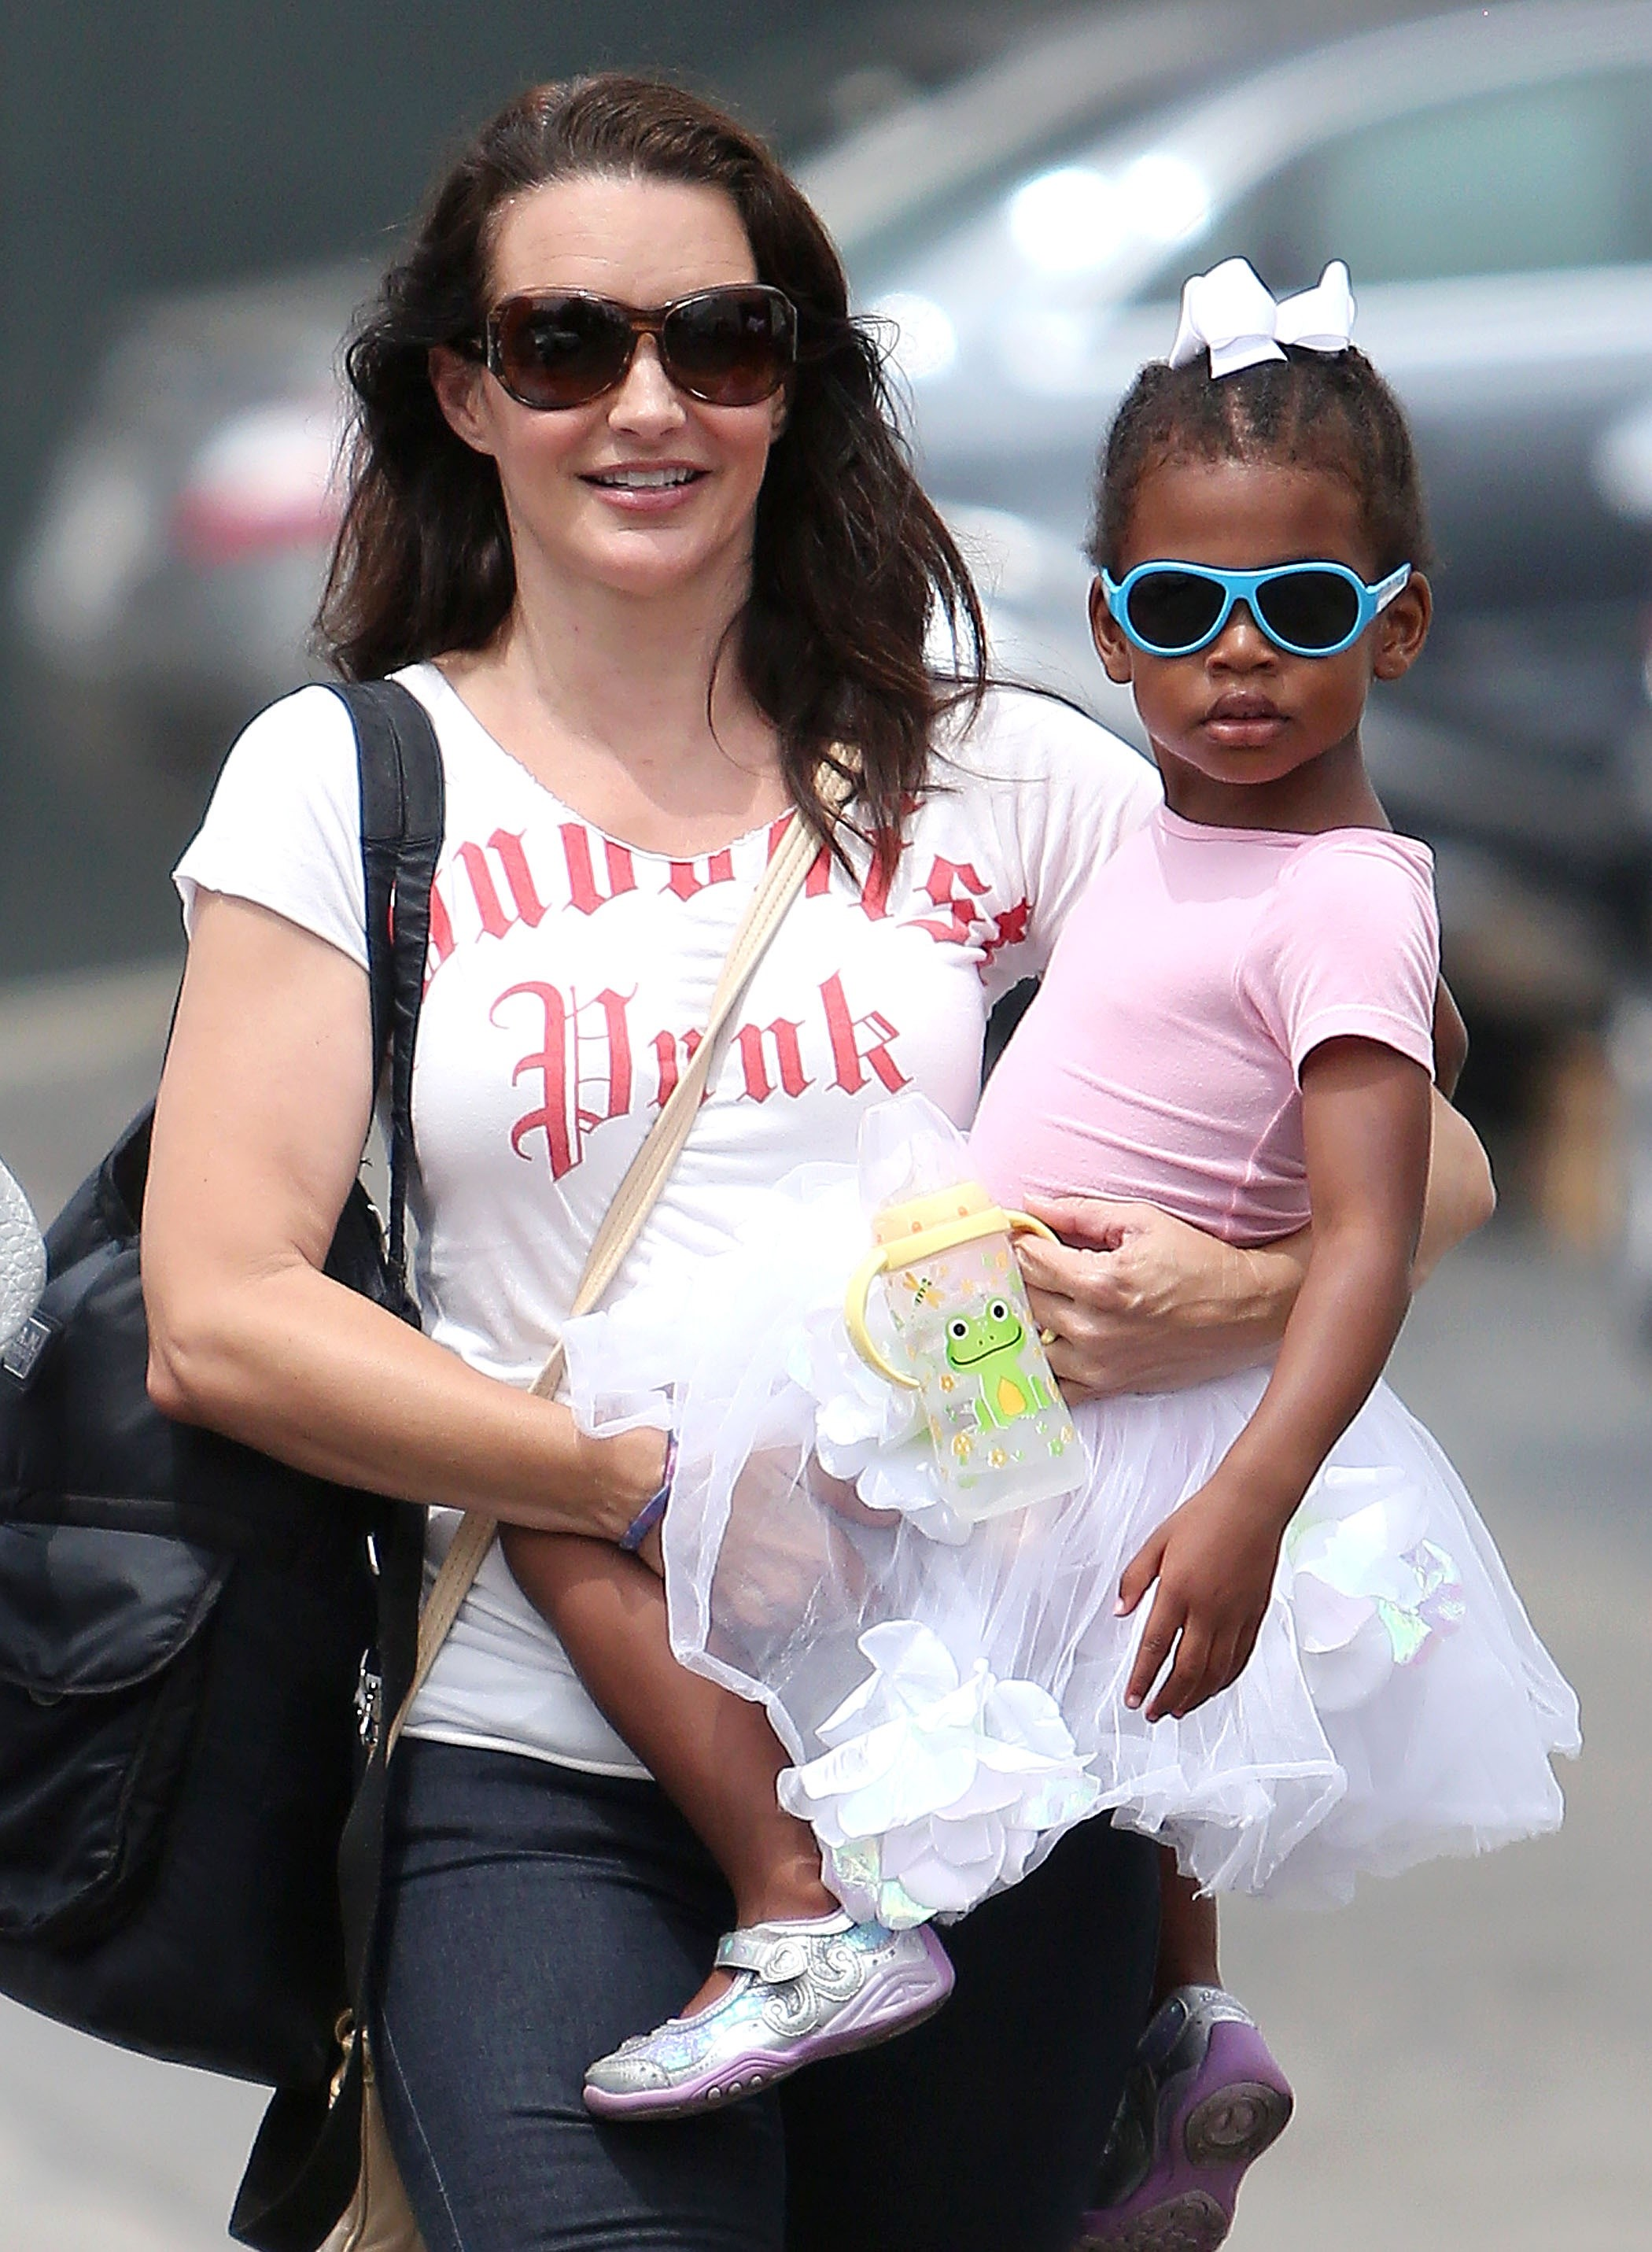face_no_mask: (433, 110, 801, 610), (1080, 351, 1435, 804)
